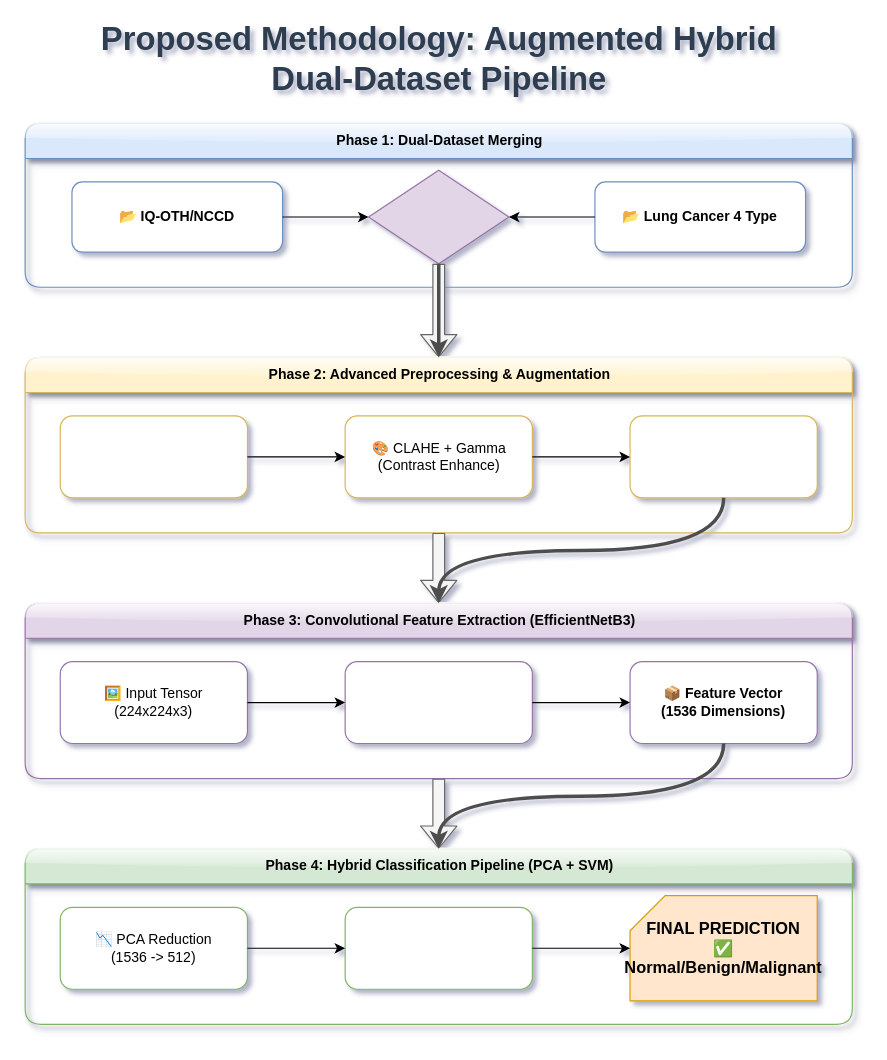
Image size: 887x1060. Some labels were removed from this diagram. The centre of each missing label's shape, as x and y in pixels:
⚖️ Balancing Loop (Target: 1200): point 723,456
⚙️ No-Resize Strategy (Load Original): point 153,456
⚙️ SVM Classifier (RBF Kernel, C=10): point 438,947
🔗 Unified Schema: point 438,216
🧠 EfficientNet Blocks (Pre-trained Weights): point 438,702
